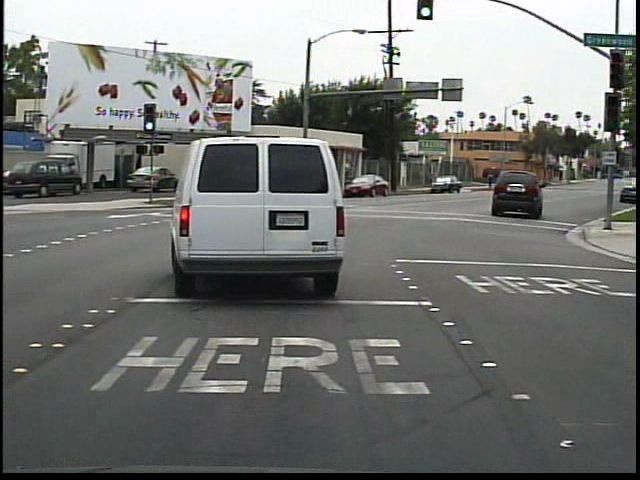person: (483, 164, 498, 195)
